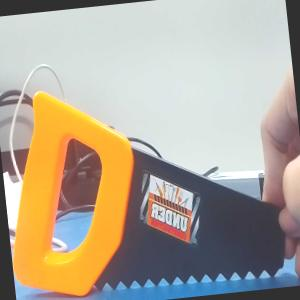serrote: (1, 65, 283, 300)
